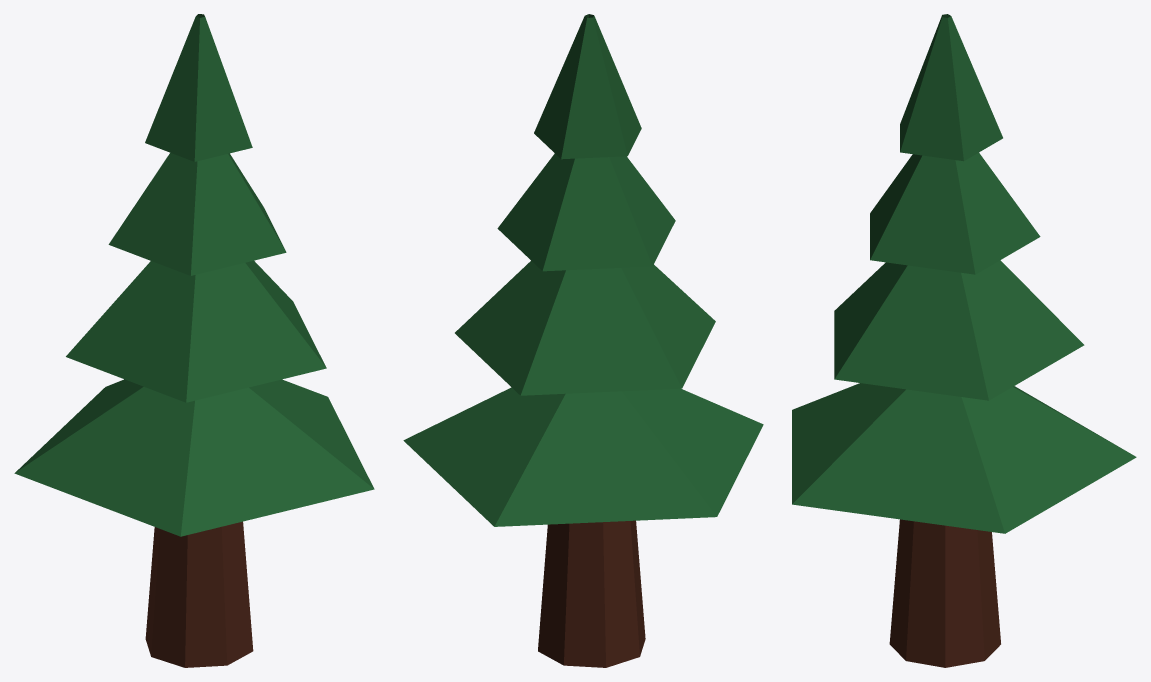
File: Tree_1.fbx
The picture shows the model from 3 angles, left to right: view 1: azimuth 30°, elevation 25°; view 2: azimuth 150°, elevation 25°; view 3: azimuth 270°, elevation 25°; orthographic projection.
Parts seen in each view (by area): view 1: Circle, Circle.003, Circle.002, Cylinder.002, Circle.001; view 2: Circle, Circle.003, Circle.002, Cylinder.002, Circle.001; view 3: Circle, Circle.003, Circle.002, Cylinder.002, Circle.001.
Part boxes in pixels (left/top/right/bottom): Circle: left=14, top=379, right=374, bottom=536; Circle.003: left=66, top=260, right=326, bottom=402; Circle.002: left=108, top=153, right=286, bottom=275; Cylinder.002: left=145, top=521, right=253, bottom=667; Circle.001: left=145, top=14, right=252, bottom=161; Circle: left=403, top=387, right=763, bottom=526; Circle.003: left=455, top=261, right=715, bottom=395; Circle.002: left=497, top=153, right=675, bottom=271; Cylinder.002: left=538, top=520, right=645, bottom=667; Circle.001: left=534, top=14, right=641, bottom=159; Circle: left=792, top=383, right=1136, bottom=533; Circle.003: left=834, top=260, right=1084, bottom=400; Circle.002: left=870, top=152, right=1040, bottom=274; Cylinder.002: left=889, top=519, right=1000, bottom=667; Circle.001: left=900, top=14, right=1002, bottom=161.
Size of the model in its own units: 90.67 by 174 by 86.23.
